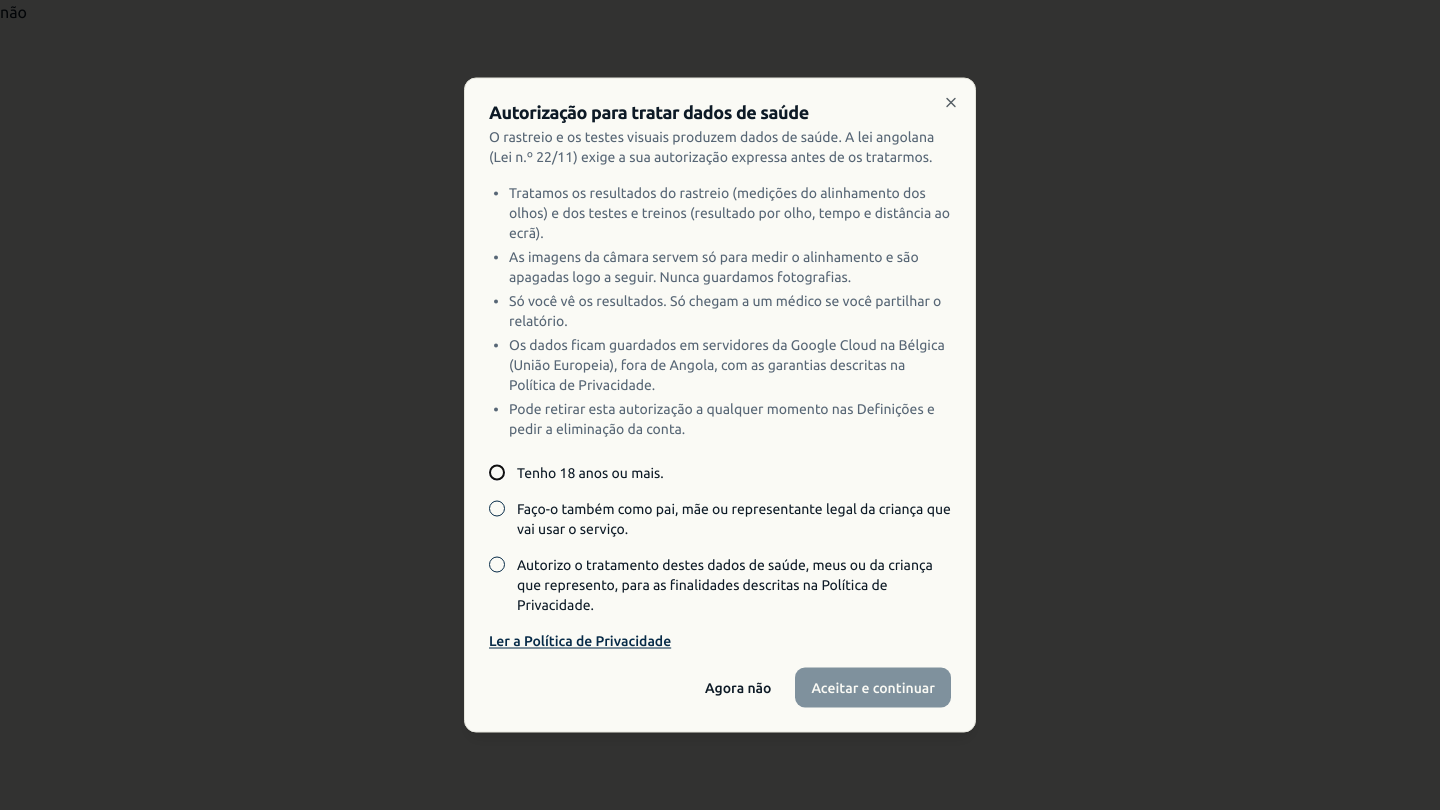
Test case: ConsentimentoSaudeContext (Lei 22/11, dados de saúde) › se a API falhar, mostra o erro, não fecha e nunca resolve true
The width and height of the screenshot is (1440, 810).
Expected: the text with test id "estado" reads "não", [0,3,27,21]
Click the text "Tenho 18 anos ou mais." at (590, 472), box [517,462,664,482]
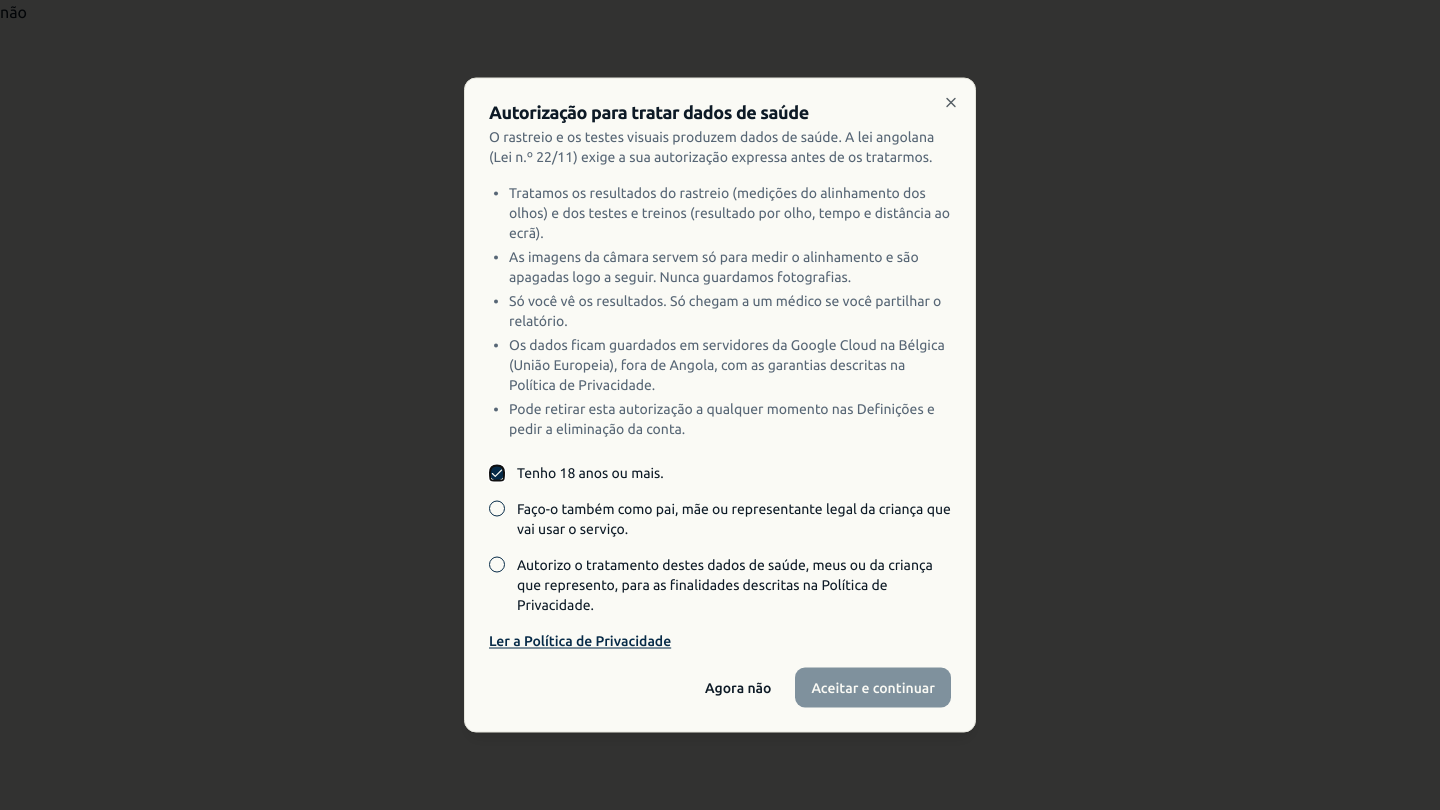
Click the text "Autorizo o tratamento destes dados de saúde, meus ou da criança que represento, para as finalidades descritas na Polític" at (734, 584), box [517,554,951,614]
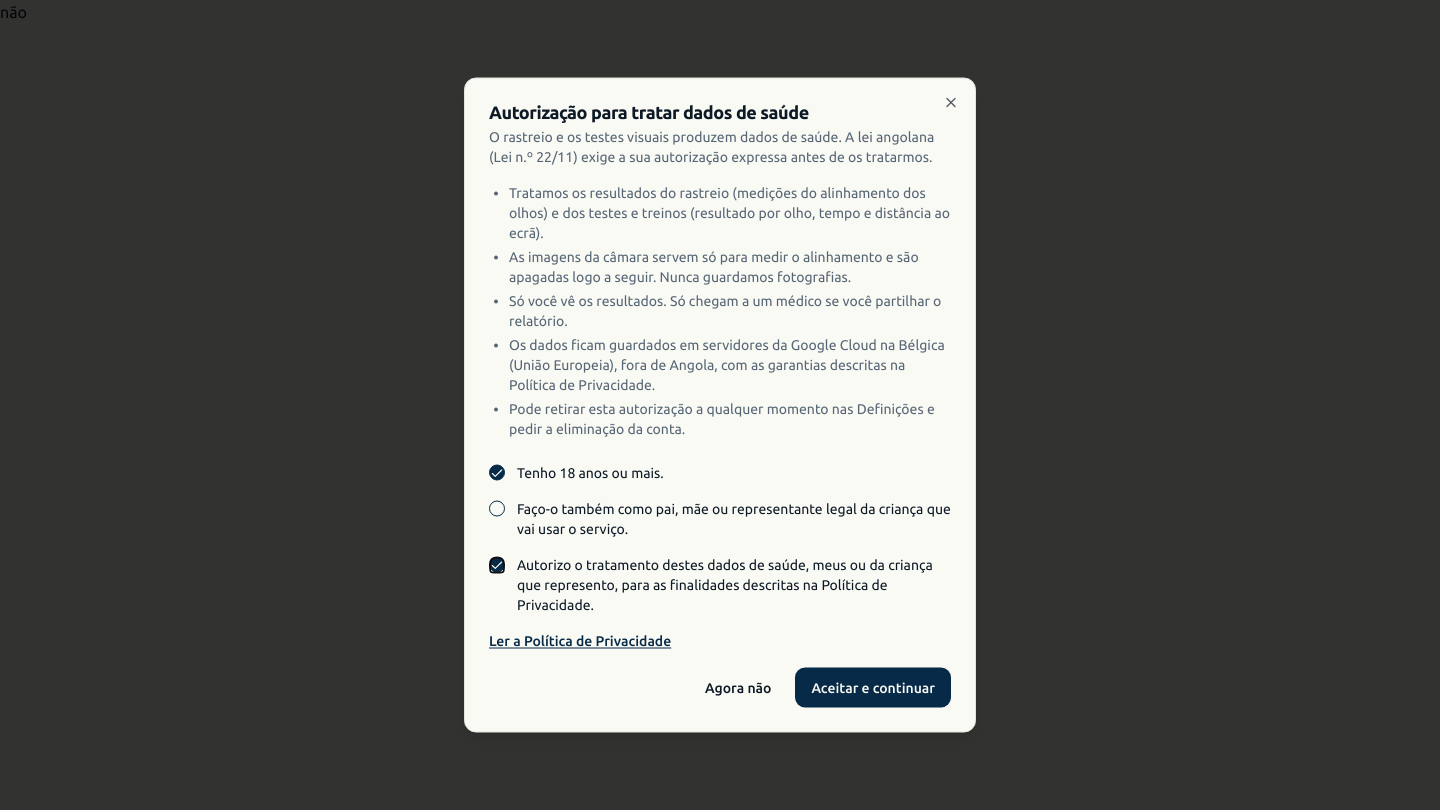
Click the button "Aceitar e continuar" at (873, 688), box [796,668,951,708]
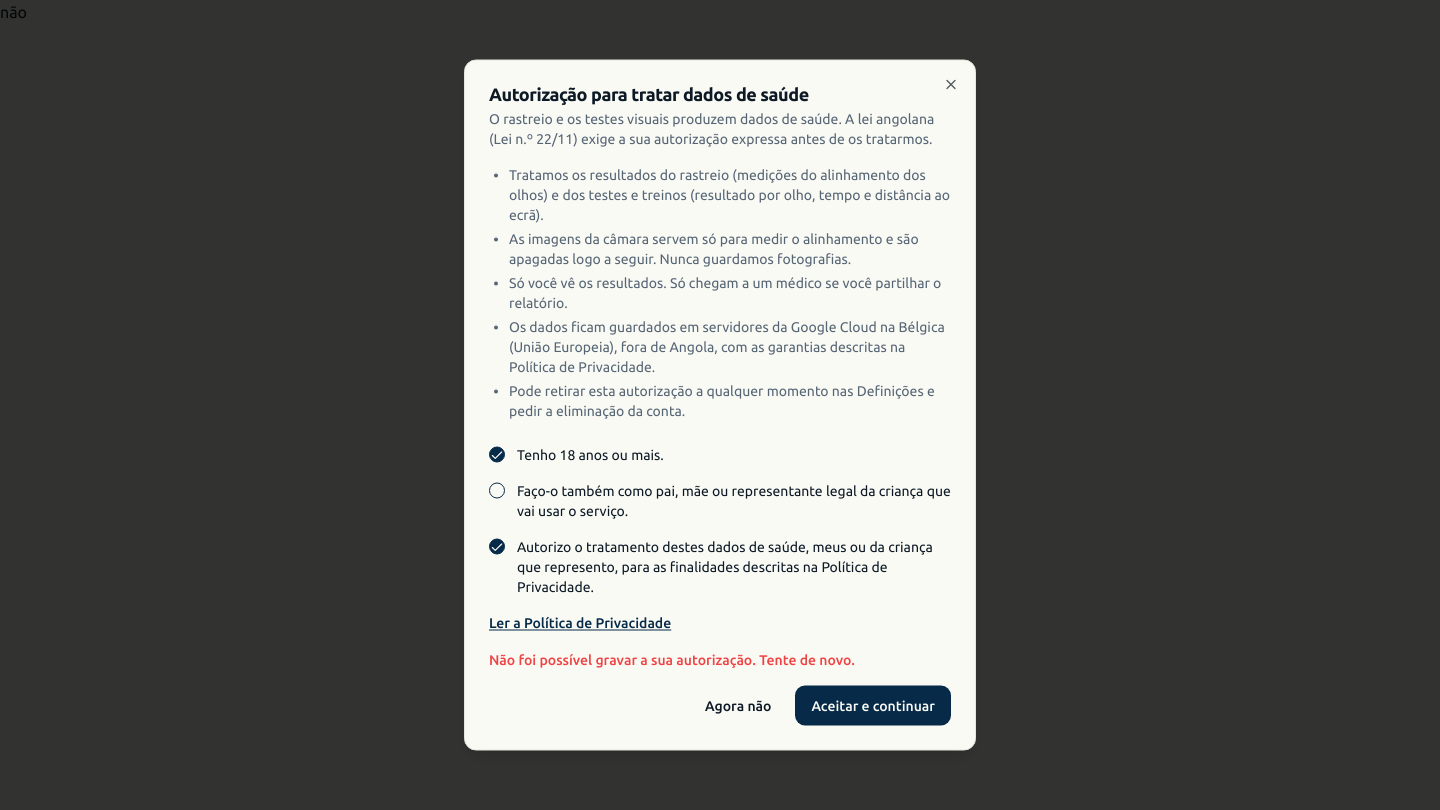
Expected: the heading "Autorização para tratar dados de saúde" is shown, [489,84,809,104]
Result: the message reads "Não foi possível gravar a sua autorização. Tente de novo." at [489,652,855,668]
